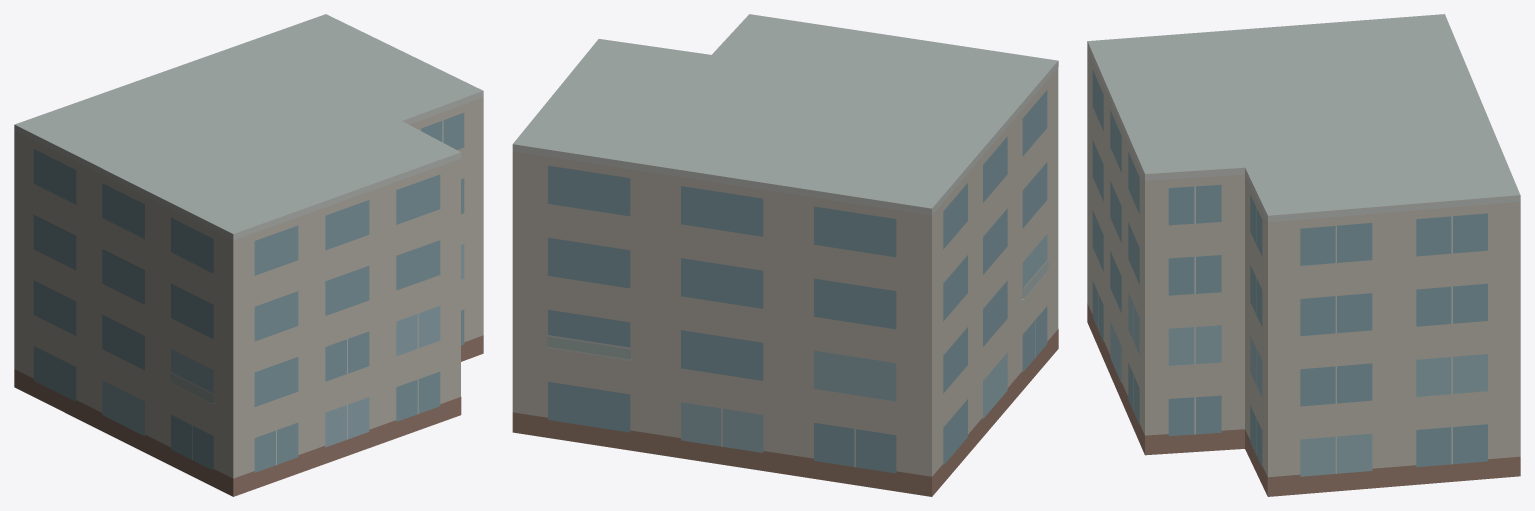
File: survey-upis-32592113.glb
The picture shows the model from 3 angles, left to right: view 1: azimuth 30°, elevation 25°; view 2: azimuth 150°, elevation 25°; view 3: azimuth 270°, elevation 25°; orthographic projection. The views are drawn at different scales.
Visible parts, largest first — view 1: survey-upis-32592113.tmp; view 2: survey-upis-32592113.tmp; view 3: survey-upis-32592113.tmp.
Part boxes in pixels (box(x1,y1,x2,y2)): survey-upis-32592113.tmp: box(14, 14, 483, 496); survey-upis-32592113.tmp: box(512, 14, 1058, 496); survey-upis-32592113.tmp: box(1087, 14, 1520, 496).
Size of the model in its own units: 15.71 by 10.2 by 14.25.
